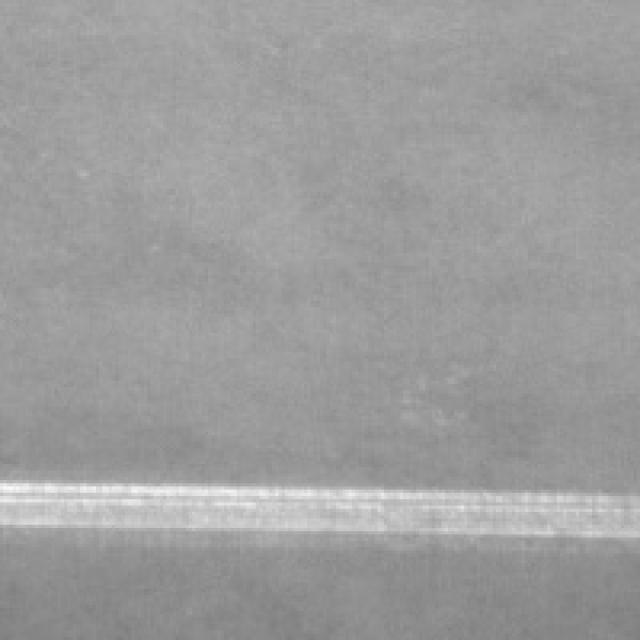scratches: (0, 473, 618, 538)
